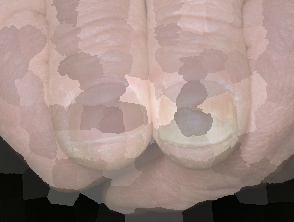Nail_psoriasis: (149, 64, 254, 162), (54, 66, 153, 166)
